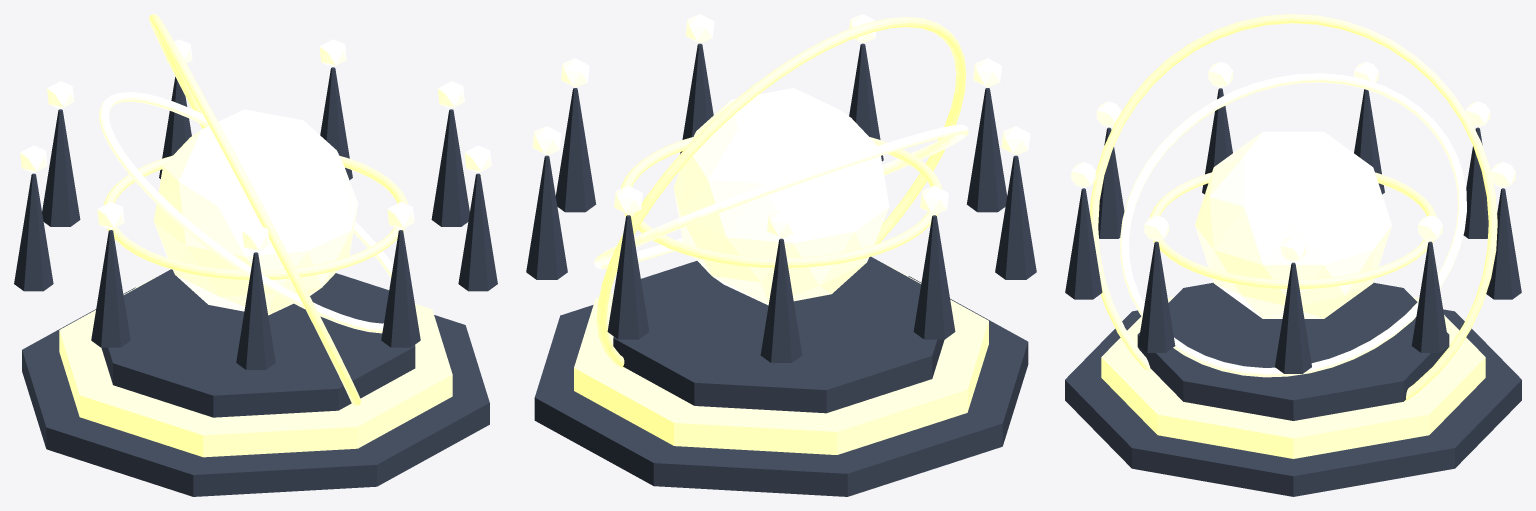
Rendered from gpu-blender-v19.glb.
3 views of the same model, side by side, from view 1: azimuth 30°, elevation 25°; view 2: azimuth 150°, elevation 25°; view 3: azimuth 270°, elevation 25° (orthographic). The views are drawn at different scales.
Visible parts, largest first — view 1: Cylinder.002, SovereignCore_printify-connector, Cylinder, Cylinder.001, Torus.001, Torus.002, Torus, Cone.004, Cone.008, Cone.005, Cone.007, Cone.006 (+12 smaller); view 2: Cylinder.002, SovereignCore_printify-connector, Cylinder, Cylinder.001, Torus.002, Torus.001, Torus, Cone.002, Cone.004, Cone, Cone.001, Cone.005 (+12 smaller); view 3: SovereignCore_printify-connector, Cylinder.002, Cylinder, Cylinder.001, Torus.002, Torus.001, Torus, Cone.007, Cone.001, Cone.008, Cone, Cone.002 (+10 smaller).
Part boxes in pixels (x1=…): Cylinder.002: x1=101, y1=269, x2=415, y2=417; SovereignCore_printify-connector: x1=153, y1=109, x2=358, y2=315; Cylinder: x1=22, y1=287, x2=489, y2=496; Cylinder.001: x1=59, y1=277, x2=452, y2=457; Torus.001: x1=99, y1=92, x2=393, y2=333; Torus.002: x1=149, y1=14, x2=361, y2=405; Torus: x1=103, y1=155, x2=408, y2=279; Cone.004: x1=14, y1=173, x2=53, y2=291; Cone.008: x1=458, y1=173, x2=497, y2=291; Cone.005: x1=91, y1=230, x2=130, y2=347; Cone.007: x1=381, y1=230, x2=420, y2=347; Cone.006: x1=236, y1=252, x2=275, y2=369; Cylinder.002: x1=613, y1=256, x2=944, y2=413; SovereignCore_printify-connector: x1=673, y1=88, x2=889, y2=305; Cylinder: x1=534, y1=276, x2=1028, y2=496; Cylinder.001: x1=574, y1=265, x2=988, y2=454; Torus.002: x1=596, y1=17, x2=966, y2=367; Torus.001: x1=594, y1=124, x2=968, y2=269; Torus: x1=621, y1=137, x2=942, y2=268; Cone.002: x1=607, y1=215, x2=649, y2=339; Cone.004: x1=913, y1=215, x2=955, y2=339; Cone: x1=555, y1=88, x2=596, y2=212; Cone.001: x1=526, y1=155, x2=567, y2=279; Cone.005: x1=995, y1=155, x2=1036, y2=279; SovereignCore_printify-connector: x1=1195, y1=131, x2=1391, y2=318; Cylinder.002: x1=1137, y1=282, x2=1449, y2=420; Cylinder: x1=1065, y1=309, x2=1521, y2=496; Cylinder.001: x1=1101, y1=296, x2=1485, y2=458; Torus.002: x1=1090, y1=14, x2=1497, y2=400; Torus.001: x1=1120, y1=73, x2=1466, y2=377; Torus: x1=1150, y1=172, x2=1436, y2=288; Cone.007: x1=1065, y1=188, x2=1102, y2=299; Cone.001: x1=1411, y1=241, x2=1448, y2=352; Cone.008: x1=1138, y1=241, x2=1175, y2=352; Cone: x1=1275, y1=262, x2=1311, y2=373; Cone.002: x1=1486, y1=188, x2=1521, y2=299.
Bounding box in the file's own units: 4.41 × 3.72 × 4.4.
